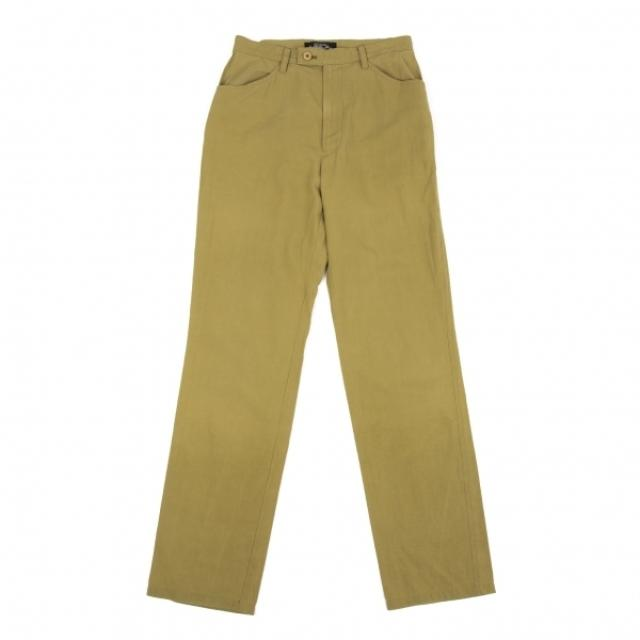long-pants: (148, 29, 497, 619)
